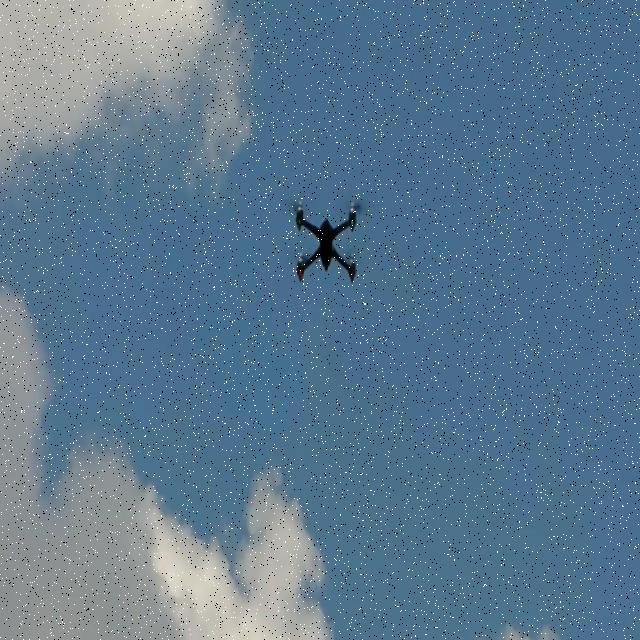UAV: (292, 198, 362, 286)
